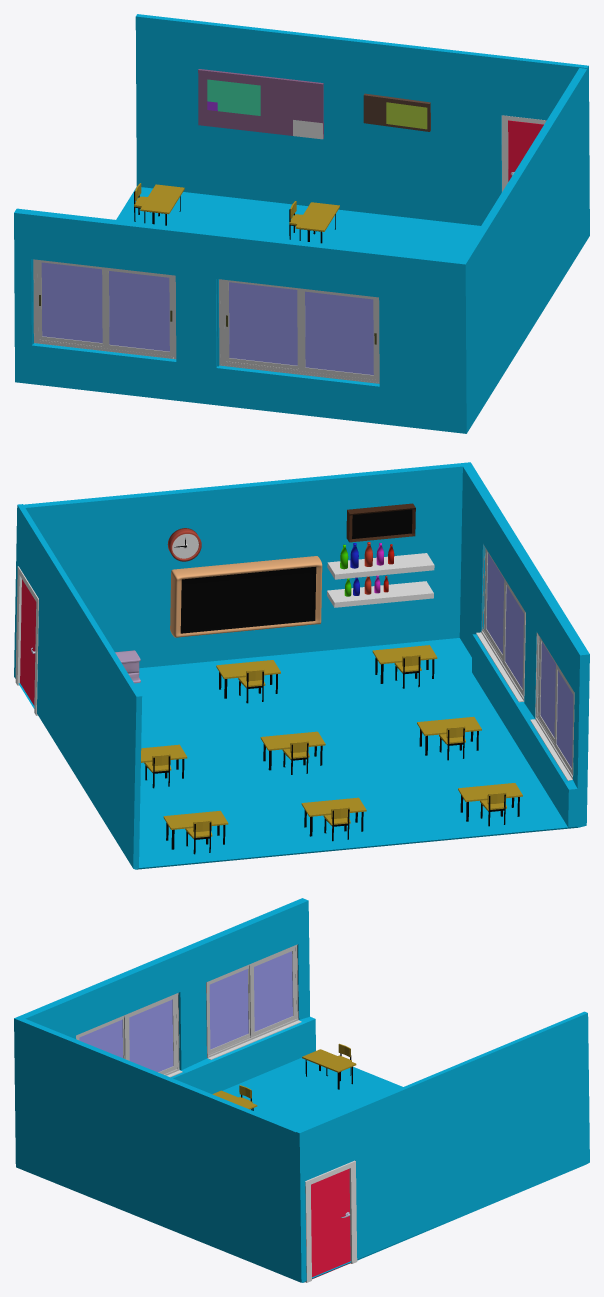
Rendered from Finale.glb.
3 renders of one model, top to bottom at view 1: azimuth 30°, elevation 25°; view 2: azimuth 150°, elevation 25°; view 3: azimuth 270°, elevation 25°, orthographic. The views are drawn at different scales.
Visible parts, largest first — view 1: Plane.001, Cube.006, Window.R.001, Window.L.001, Window.R, Window.L, Cube.001, Cube.005, WindowFrame.001, WindowFrame, Door, DoorFrame; view 2: Plane.001, Cube.001, Cube, Cube.002, Window.L.001, Cube.004, Window.L, Cube.003, Window.R.001, Door, Window.R, DoorFrame (+3 smaller); view 3: Plane.001, Door, Window.L, Window.L.001, Window.R, DoorFrame, Cube.001, Window.R.001, WindowFrame.
Boxes of the visible parts, box(x1,y1,x2,y2) form: Plane.001: box(14, 14, 589, 433); Cube.006: box(198, 69, 323, 139); Window.R.001: box(297, 288, 377, 379); Window.L.001: box(224, 280, 298, 369); Window.R: box(102, 267, 173, 356); Window.L: box(37, 260, 103, 346); Cube.001: box(134, 183, 339, 243); Cube.005: box(363, 93, 430, 131); WindowFrame.001: box(219, 279, 379, 383); WindowFrame: box(33, 259, 176, 359); Door: box(508, 120, 543, 181); DoorFrame: box(501, 115, 546, 191); Plane.001: box(14, 462, 589, 869); Cube.001: box(141, 645, 522, 854); Cube: box(170, 556, 322, 637); Cube.002: box(346, 503, 415, 542); Window.L.001: box(502, 579, 525, 696); Cube.004: box(327, 581, 433, 607); Window.L: box(554, 664, 574, 775); Cube.003: box(327, 553, 434, 579); Window.R.001: box(484, 549, 504, 659); Door: box(20, 579, 36, 705); Window.R: box(538, 638, 555, 742); DoorFrame: box(15, 566, 38, 715); Plane.001: box(14, 898, 589, 1282); Door: box(311, 1168, 350, 1279); Window.L: box(249, 946, 296, 1037); Window.L.001: box(124, 994, 176, 1074); Window.R: box(207, 966, 249, 1053); DoorFrame: box(305, 1160, 357, 1282); Cube.001: box(212, 1043, 356, 1110); Window.R.001: box(77, 1017, 124, 1058); WindowFrame: box(206, 944, 298, 1057).
Size of the model in its own units: 56.87 by 17.16 by 56.85.
